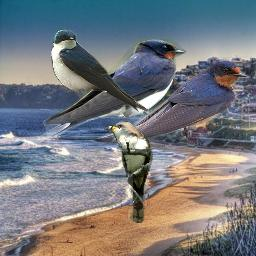Cuckoo: (104, 121, 153, 223)
Swallow: (27, 39, 186, 149), (98, 58, 248, 143), (51, 29, 149, 112)
